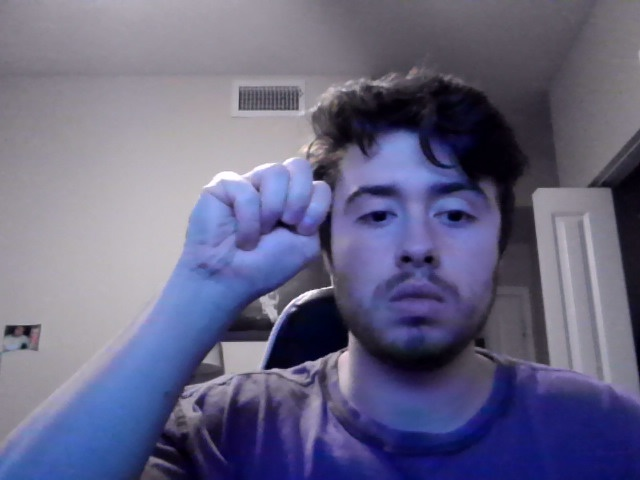m: (178, 156, 332, 324)
